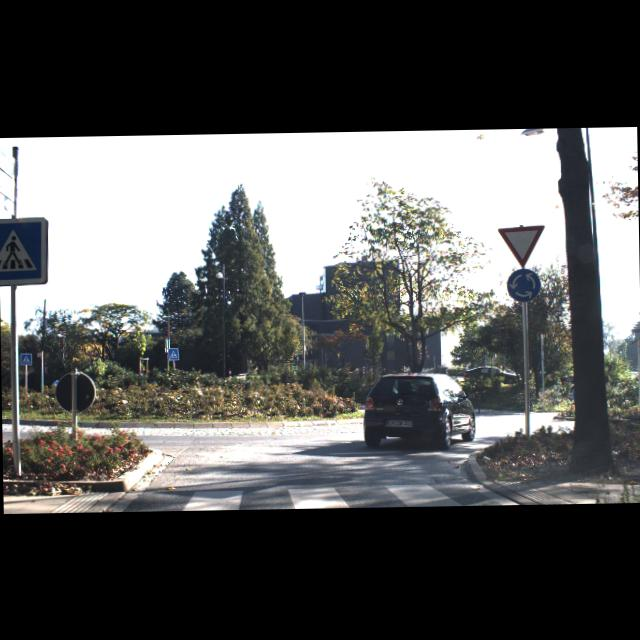mandatory: (506, 267, 541, 302)
other: (496, 224, 544, 267)
